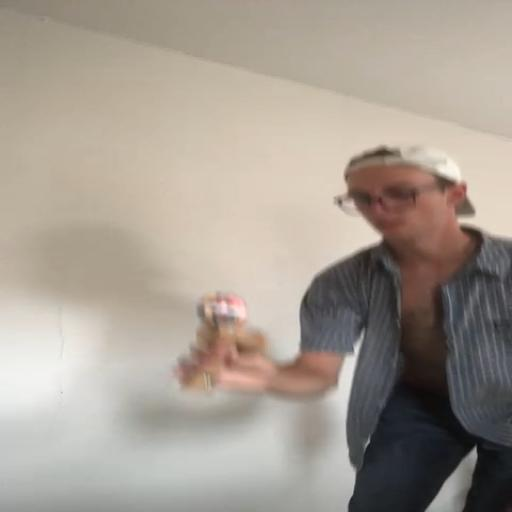kendama_ball: (198, 290, 246, 326)
